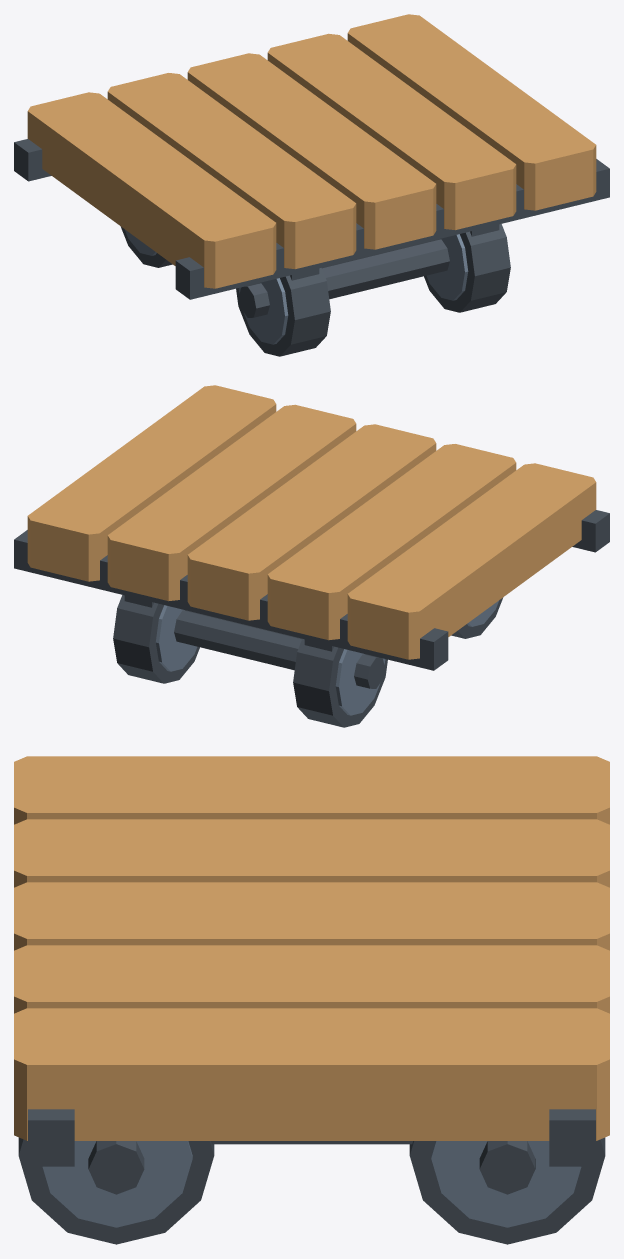
File: minecart_handcar.glb
The picture shows the model from 3 angles, top to bottom: view 1: azimuth 30°, elevation 25°; view 2: azimuth 150°, elevation 25°; view 3: azimuth 270°, elevation 25°; orthographic projection. The views are drawn at different scales.
Parts seen in each view (by area): view 1: MinecartHandcar; view 2: MinecartHandcar; view 3: MinecartHandcar.
Boxes of the visible parts, box(x1,y1,x2,y2) form: MinecartHandcar: box(14, 14, 609, 356); MinecartHandcar: box(14, 385, 609, 727); MinecartHandcar: box(14, 756, 609, 1244).
Size of the model in its own units: 0.84 by 0.295 by 0.64.
